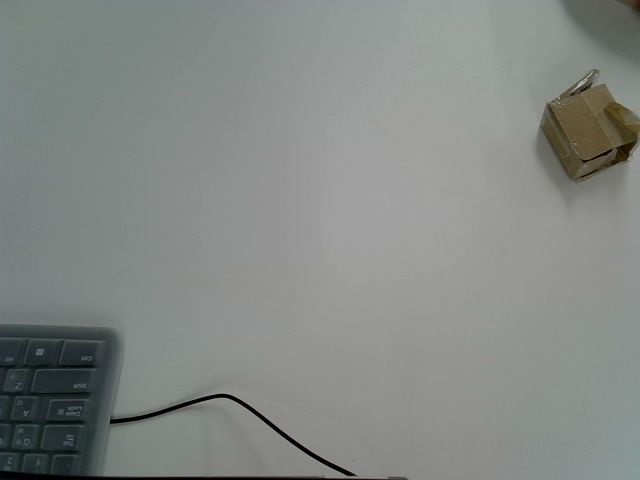defect: (540, 68, 640, 183)
